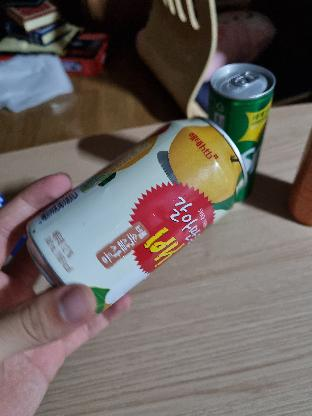Can: (25, 119, 247, 307)
